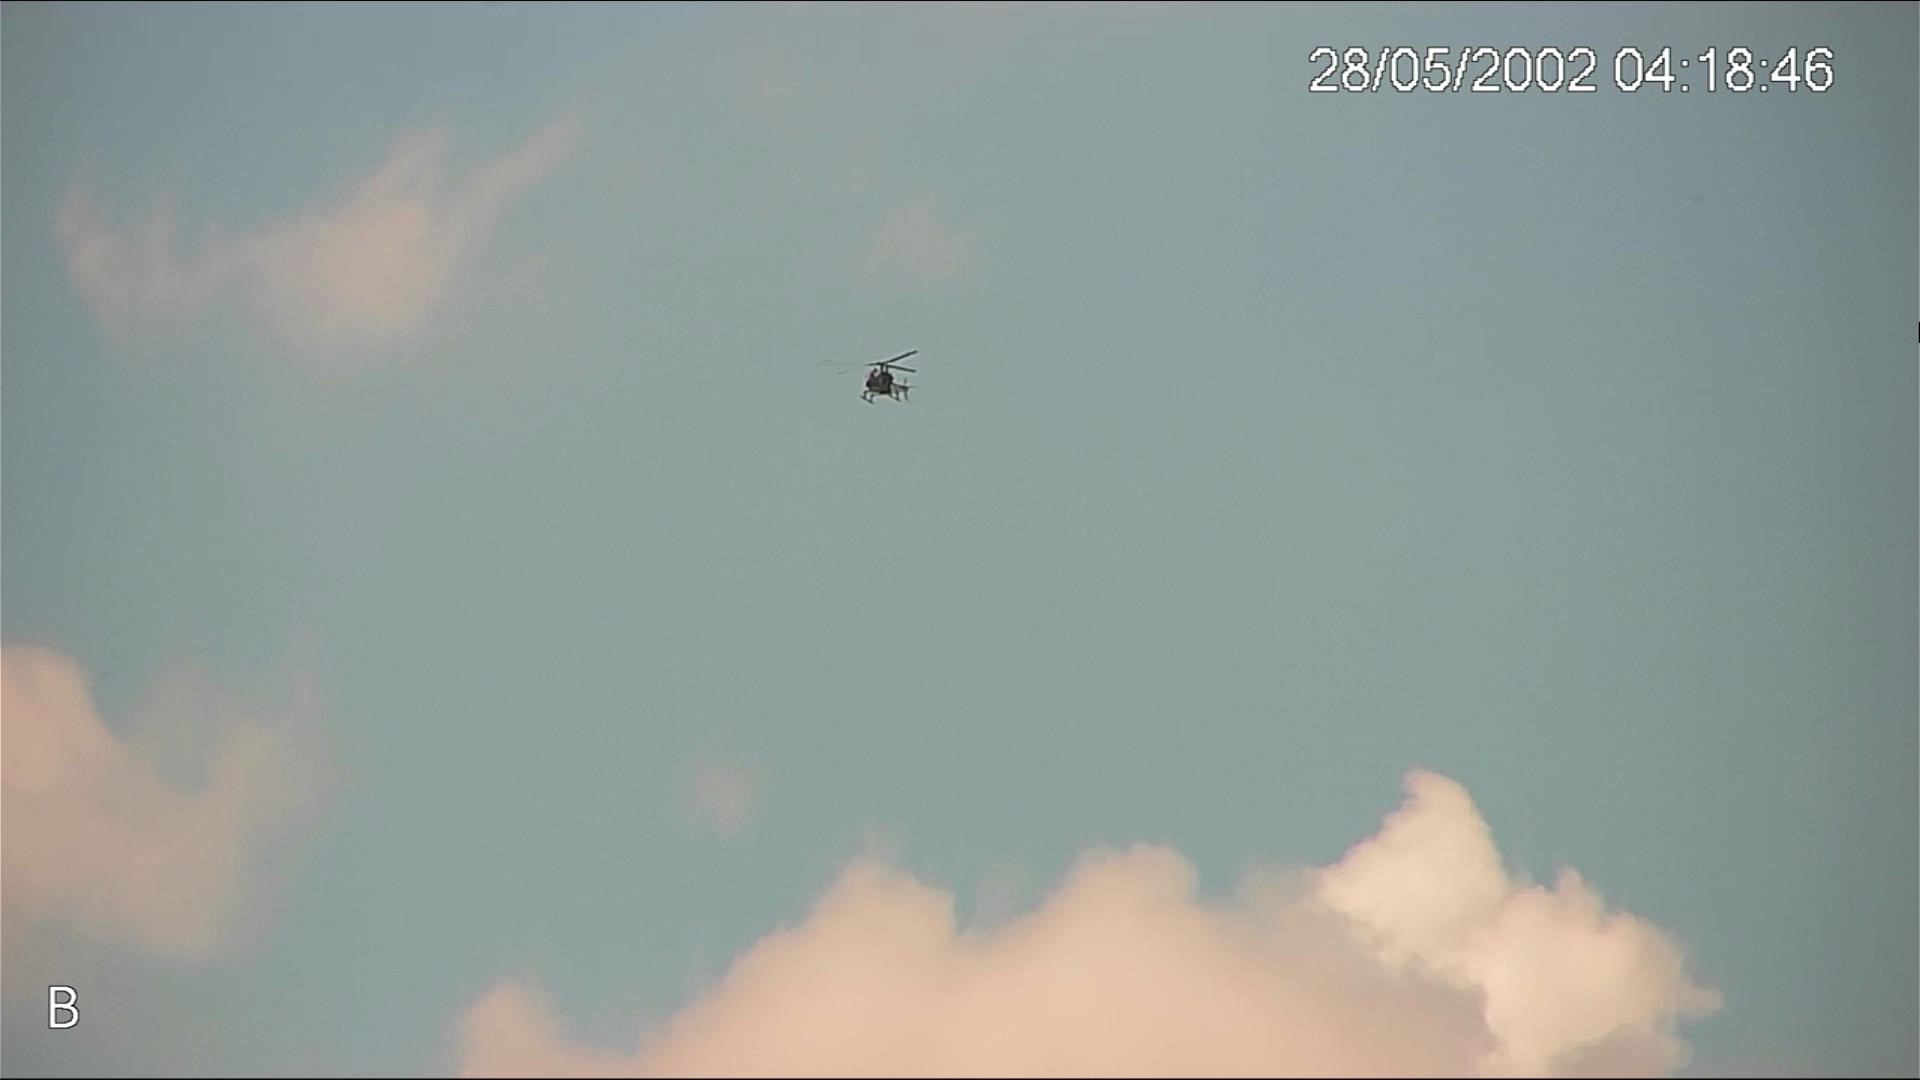SU_30: (855, 356, 916, 411)
